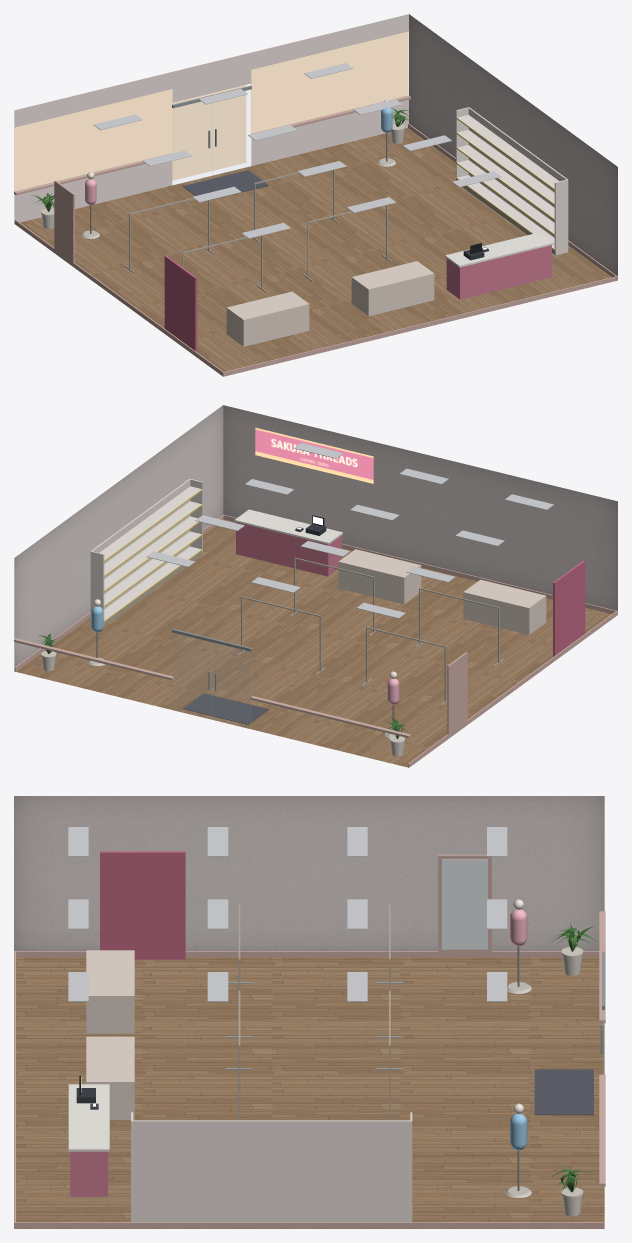
Rendered from interior-boutique.opt.glb.
3 views of the same model, one above another, from view 1: azimuth 30°, elevation 25°; view 2: azimuth 150°, elevation 25°; view 3: azimuth 270°, elevation 25° (orthographic). The views are drawn at different scales.
Visible parts, largest first — view 1: object 1, object 9, interior:boutique:street-view, object 7, object 6, object 11, object 13; view 2: object 1, object 6, object 9, object 11, name-sign, object 13, object 7; view 3: object 1, object 6, object 9, object 11, object 13, object 12, object 7, object 15.
Part boxes in pixels (x1,y1,x2,y2): object 1: (16,128,615,375); object 9: (14,95,617,376); interior:boutique:street-view: (14,31,408,191); object 7: (14,14,408,223); object 6: (409,14,617,275); object 11: (90,63,501,292); object 13: (164,255,197,352); object 1: (16,519,614,767); object 6: (14,405,617,670); object 9: (14,479,617,767); object 11: (96,443,553,730); name-sign: (255,427,373,483); object 13: (553,560,585,656); object 7: (91,606,399,724); object 1: (14,957,604,1228); object 6: (14,796,604,950); object 9: (14,854,605,1228); object 11: (68,827,519,1190); object 13: (100,851,185,959); object 12: (442,859,487,949); object 7: (510,909,593,1150); object 15: (550,923,598,1192).
Bounding box in the file's own units: 12 × 3.3 × 11.25.
Materials: 14 (4 with a texture image).
